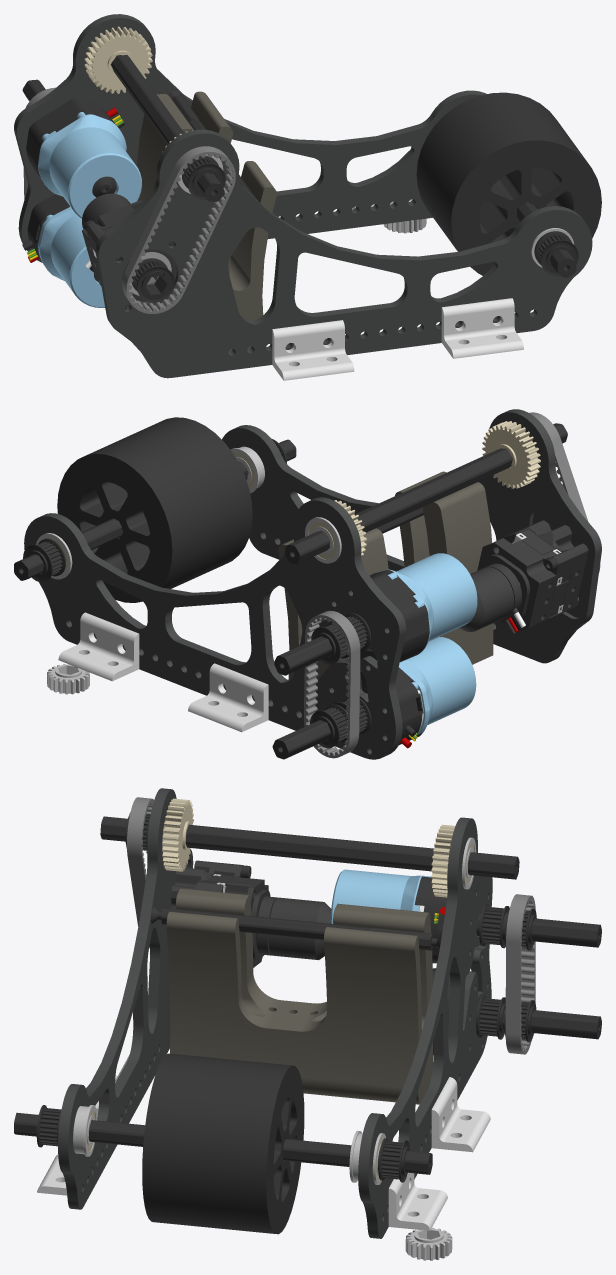
The picture shows the model from 3 angles, top to bottom: view 1: azimuth 30°, elevation 25°; view 2: azimuth 150°, elevation 25°; view 3: azimuth 270°, elevation 25°; orthographic projection. The views are drawn at different scales.
Parts seen in each view (by area): view 1: Part 2 (×2), 4" Solid Urethane Wheel (45A, 1.5" Wide, 1/2" Hex Bore) (×2), id212 (×2), 4113 2x1x1 4113 (×2), Part 1, 55T HTD Belt, #10 Aluminum Standoff (10" L, 1/2" Hex Profile) (×2), 24t Aluminum Pulley (GT2 3mm, 9mm Wide, 1/2" Hex Bore) (×3), SPARK Flex Brushless Motor Controller (×2), 32t Aluminum Spur Gear (20 DP, 1/2" Hex Bore), MAXPlanetary Input Slice, NEO 550 Brushless Motor (+1 smaller); view 2: Part 2 (×2), 4" Solid Urethane Wheel (45A, 1.5" Wide, 1/2" Hex Bore) (×2), id212 (×2), Part 1, 4113 2x1x1 4113 (×2), #10 Aluminum Standoff (10" L, 1/2" Hex Profile) (×2), SPARK Flex Brushless Motor Controller (×2), 24t Aluminum Pulley (GT2 3mm, 9mm Wide, 1/2" Hex Bore) (×4), 48T HTD Belt, MAXPlanetary Input Slice, NEO 550 Brushless Motor, #10 Aluminum Standoff (3" L, 1/2" Hex Profile) (×2) (+7 smaller); view 3: Part 1, Part 2 (×2), 4" Solid Urethane Wheel (45A, 1.5" Wide, 1/2" Hex Bore) (×2), #10 Aluminum Standoff (10" L, 1/2" Hex Profile) (×2), 4113 2x1x1 4113 (×3), 24t Aluminum Pulley (GT2 3mm, 9mm Wide, 1/2" Hex Bore) (×4), 48T HTD Belt, #10 Aluminum Standoff (3" L, 1/2" Hex Profile) (×2), id212, 32t Aluminum Spur Gear (20 DP, 1/2" Hex Bore) (×2), NEO 550 Brushless Motor, #10-32 Aluminum Standoff (3/8" Hex, 5" L) (+7 smaller).
Boxes of the visible parts, box(x1,y1,x2,y2) form: Part 2 (×2): box(14, 14, 592, 378); 4" Solid Urethane Wheel (45A, 1.5" Wide, 1/2" Hex Bore) (×2): box(416, 92, 601, 275); id212 (×2): box(38, 112, 141, 307); 4113 2x1x1 4113 (×2): box(272, 298, 523, 380); Part 1: box(137, 91, 276, 351); 55T HTD Belt: box(122, 146, 235, 313); #10 Aluminum Standoff (10" L, 1/2" Hex Profile) (×2): box(110, 55, 576, 277); 24t Aluminum Pulley (GT2 3mm, 9mm Wide, 1/2" Hex Bore) (×3): box(131, 155, 578, 302); SPARK Flex Brushless Motor Controller (×2): box(22, 98, 124, 262); 32t Aluminum Spur Gear (20 DP, 1/2" Hex Bore): box(84, 26, 152, 93); MAXPlanetary Input Slice: box(82, 200, 141, 286); NEO 550 Brushless Motor: box(82, 193, 130, 271); Part 2 (×2): box(24, 409, 601, 759); 4" Solid Urethane Wheel (45A, 1.5" Wide, 1/2" Hex Bore) (×2): box(57, 417, 252, 602); id212 (×2): box(376, 553, 477, 735); Part 1: box(278, 471, 493, 679); 4113 2x1x1 4113 (×2): box(58, 612, 268, 732); #10 Aluminum Standoff (10" L, 1/2" Hex Profile) (×2): box(14, 423, 567, 580); SPARK Flex Brushless Motor Controller (×2): box(360, 570, 429, 748); 24t Aluminum Pulley (GT2 3mm, 9mm Wide, 1/2" Hex Bore) (×4): box(23, 538, 370, 748); 48T HTD Belt: box(304, 610, 360, 758); MAXPlanetary Input Slice: box(477, 538, 561, 632); NEO 550 Brushless Motor: box(459, 563, 525, 634); #10 Aluminum Standoff (3" L, 1/2" Hex Profile) (×2): box(272, 636, 332, 759); Part 1: box(166, 888, 432, 1104); Part 2 (×2): box(58, 788, 492, 1238); 4" Solid Urethane Wheel (45A, 1.5" Wide, 1/2" Hex Bore) (×2): box(142, 1053, 304, 1234); #10 Aluminum Standoff (10" L, 1/2" Hex Profile) (×2): box(14, 816, 519, 1174); 4113 2x1x1 4113 (×3): box(37, 1077, 490, 1230); 24t Aluminum Pulley (GT2 3mm, 9mm Wide, 1/2" Hex Bore) (×4): box(36, 904, 509, 1182); 48T HTD Belt: box(505, 894, 535, 1054); #10 Aluminum Standoff (3" L, 1/2" Hex Profile) (×2): box(476, 913, 601, 1039); id212: box(330, 869, 431, 923); 32t Aluminum Spur Gear (20 DP, 1/2" Hex Bore) (×2): box(162, 798, 455, 897); NEO 550 Brushless Motor: box(256, 896, 331, 960); #10-32 Aluminum Standoff (3/8" Hex, 5" L): box(161, 907, 370, 939).
Size of the model in its own units: 0.3776 by 0.1894 by 0.3516.
